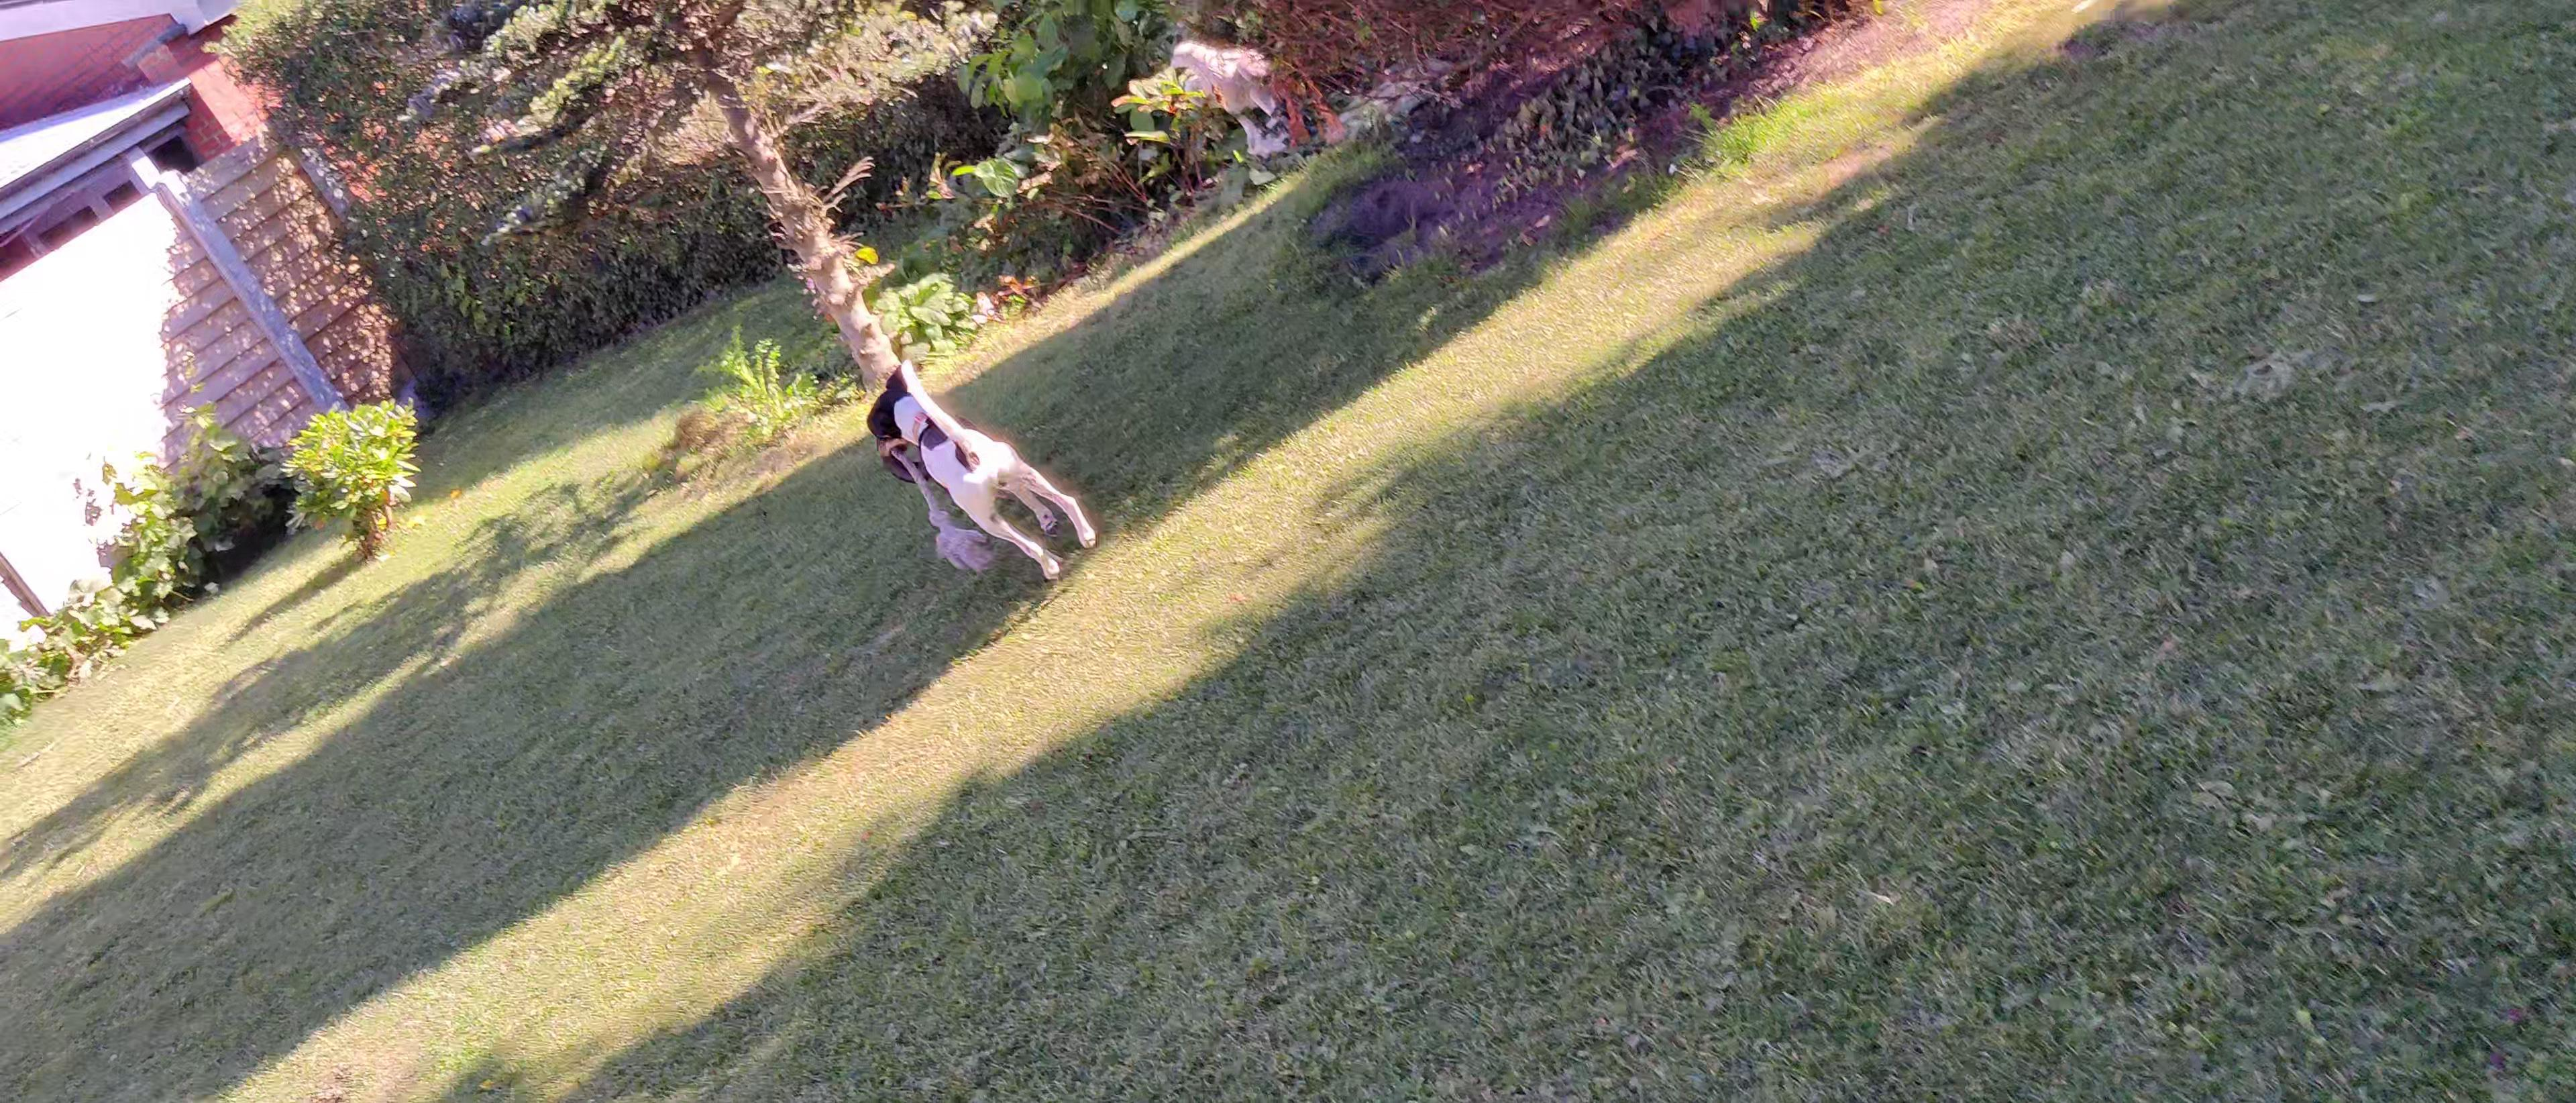Dog: (854, 355, 1099, 580)
